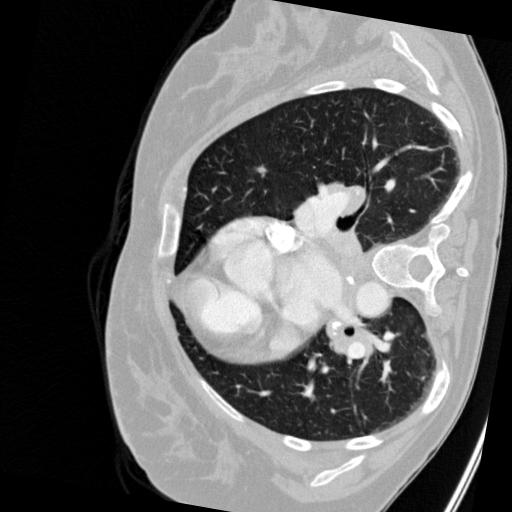nodule: (255, 162, 269, 176)
